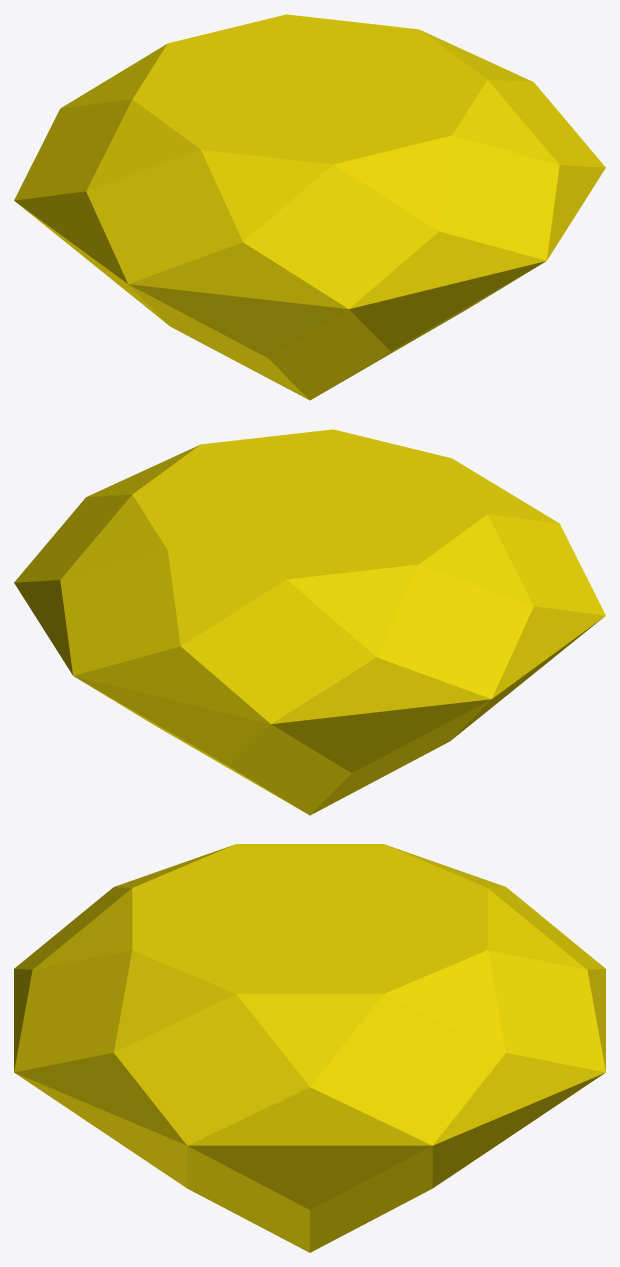
The model's file is Gem.gltf.
3 views of the same model, one above another, from view 1: azimuth 30°, elevation 25°; view 2: azimuth 150°, elevation 25°; view 3: azimuth 270°, elevation 25° (orthographic). The views are drawn at different scales.
Visible parts, largest first — view 1: Gem; view 2: Gem; view 3: Gem.
Part boxes in pixels (left/top/right/bottom): Gem: left=14, top=14, right=605, bottom=400; Gem: left=14, top=429, right=605, bottom=815; Gem: left=14, top=844, right=605, bottom=1252.
Bounding box in the file's own units: 2.47 × 1.54 × 2.47.
